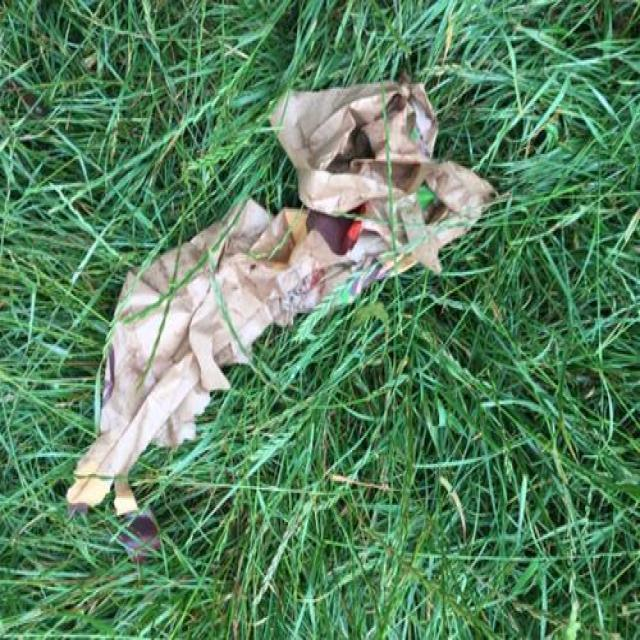Paper: (59, 65, 500, 522)
